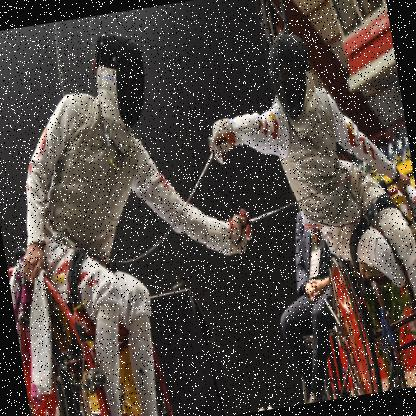fencer: (0, 11, 280, 415), (190, 11, 415, 410)
